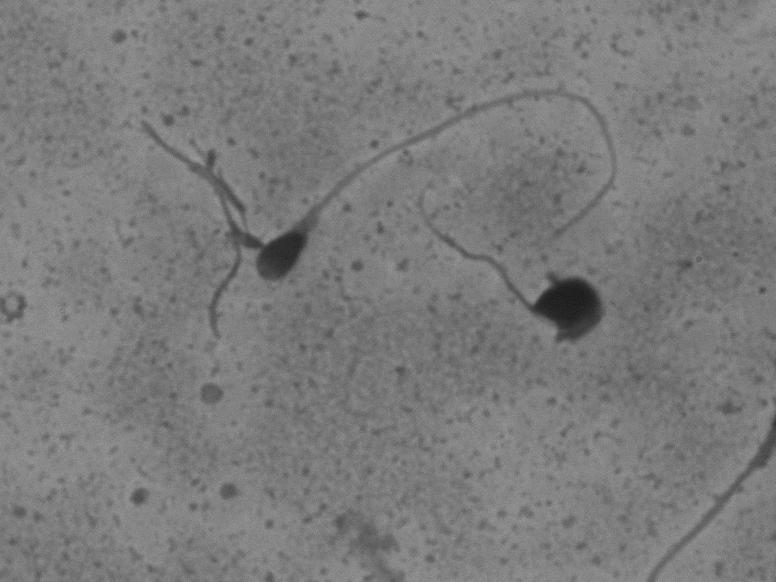Abnormal: (245, 53, 645, 304), (434, 229, 640, 385)
